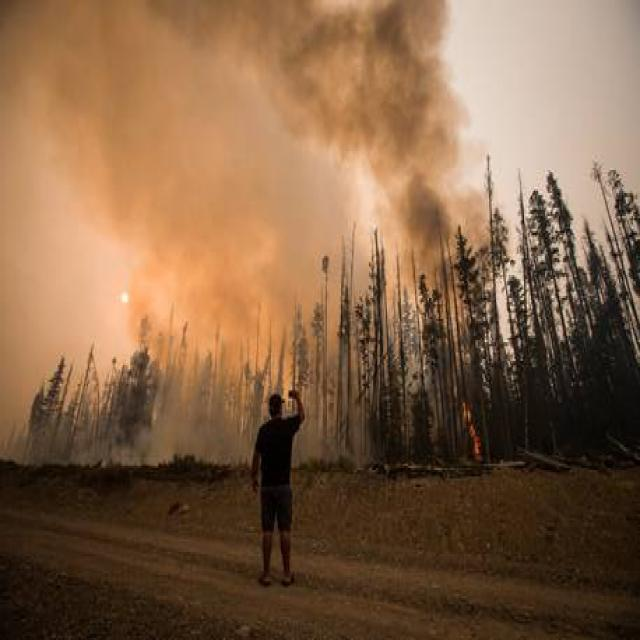Fire: (409, 369, 502, 476)
